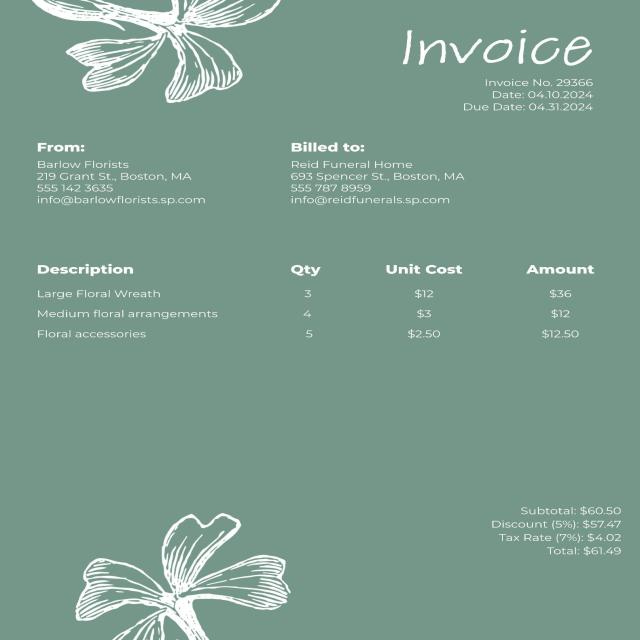paragraph: (276, 137, 483, 217), (25, 135, 222, 214), (459, 481, 631, 571), (385, 21, 596, 69), (448, 71, 608, 123)
table: (27, 256, 610, 359)
